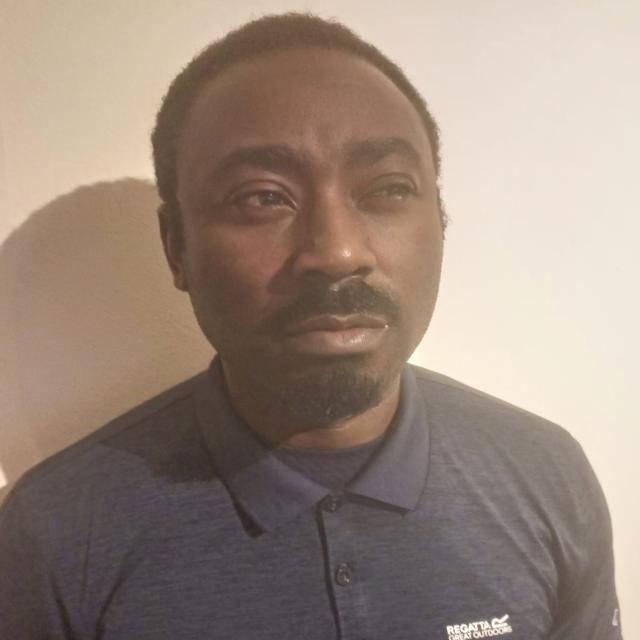sad: (153, 6, 454, 428)
